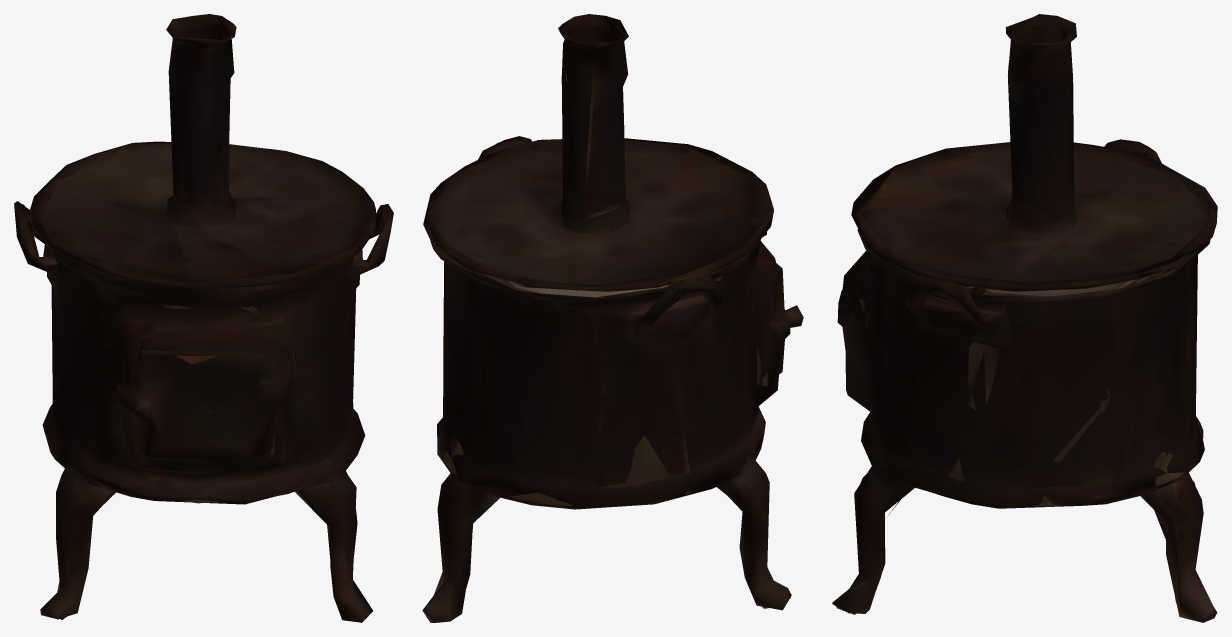
Rendered from estufa.movil.glb.
3 views of the same model, side by side, from view 1: azimuth 30°, elevation 25°; view 2: azimuth 150°, elevation 25°; view 3: azimuth 270°, elevation 25° (orthographic). The views are drawn at different scales.
Visible parts, largest first — view 1: geometry_0; view 2: geometry_0; view 3: geometry_0.
Part boxes in pixels (box(x1,y1,x2,y2)): geometry_0: box(14, 14, 393, 622); geometry_0: box(422, 14, 803, 622); geometry_0: box(832, 14, 1217, 622).
Size of the model in its own units: 0.6 by 0.9465 by 0.5994.
Materials: 1 (1 with a texture image).
